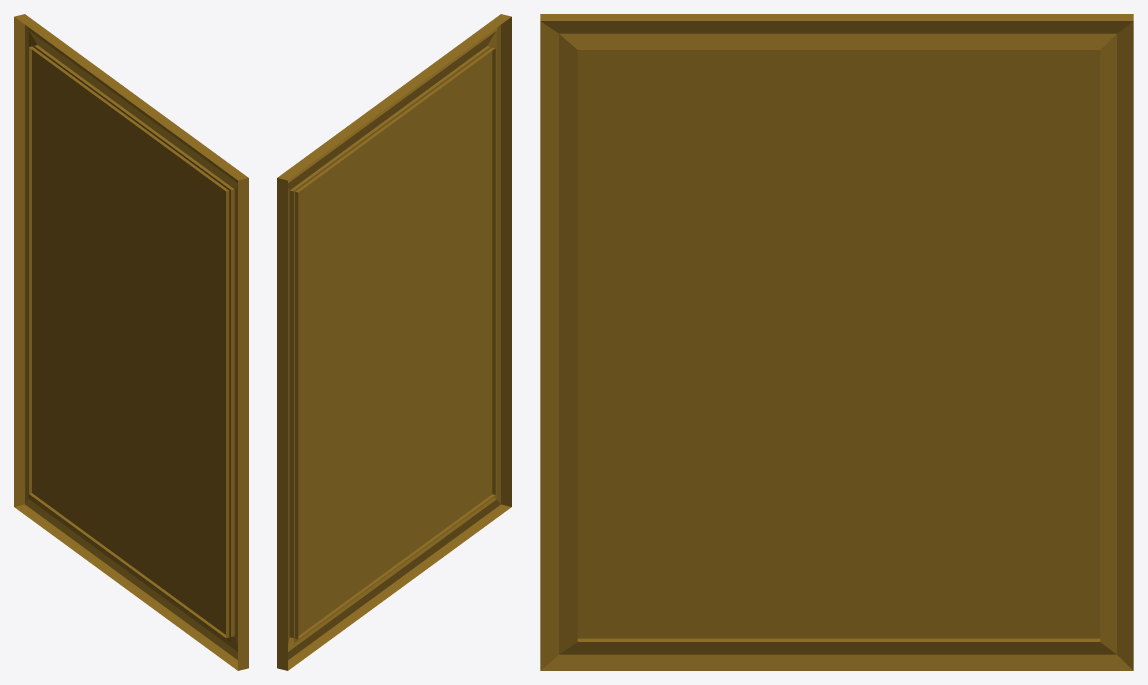
Rendered from bilderrahmen-strasse.fbx.
The picture shows the model from 3 angles, left to right: view 1: azimuth 30°, elevation 25°; view 2: azimuth 150°, elevation 25°; view 3: azimuth 270°, elevation 25°; orthographic projection. The views are drawn at different scales.
Visible parts, largest first — view 1: Cube.003; view 2: Cube.003; view 3: Cube.003.
Boxes of the visible parts, x1=… form: Cube.003: x1=14, y1=14, x2=248, y2=670; Cube.003: x1=277, y1=14, x2=511, y2=670; Cube.003: x1=540, y1=14, x2=1133, y2=670.
Bounding box in the file's own units: 2.5 × 108 × 89.6.
